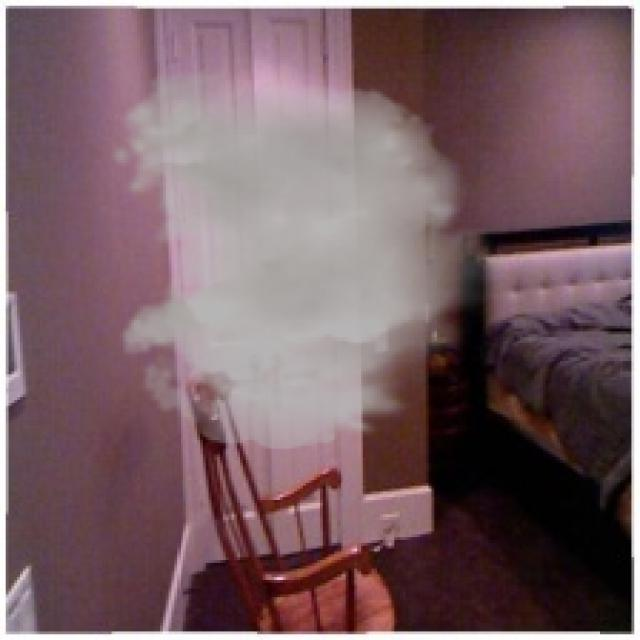smoke: (109, 69, 517, 448)
